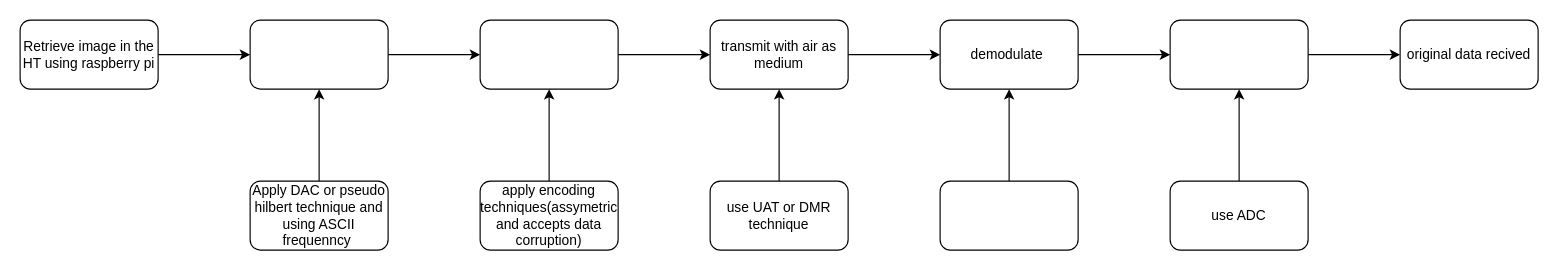
Image size: 1558x270. Some labels were removed from this diagram. The box of each missing label's shape, as (x1, y1, x2, y2) in pixels:
apply the sampling, quantizing and rearranging to get the data back: (1169, 19, 1308, 89)
Convert Image and data to sound: (249, 19, 388, 89)
decode: (939, 180, 1078, 250)
modulate: (479, 19, 618, 89)
